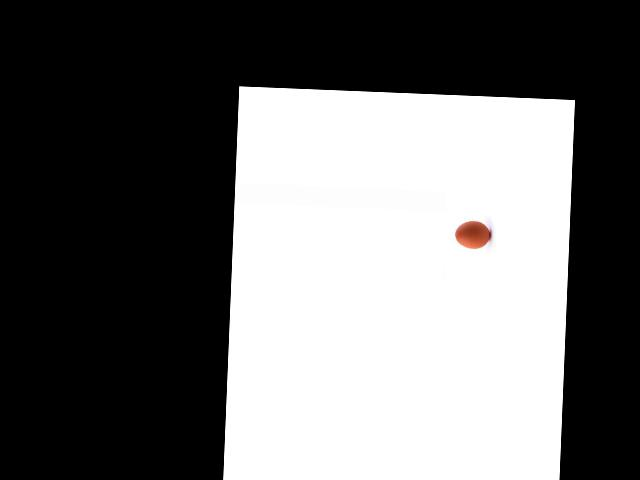egg: (455, 219, 490, 249)
